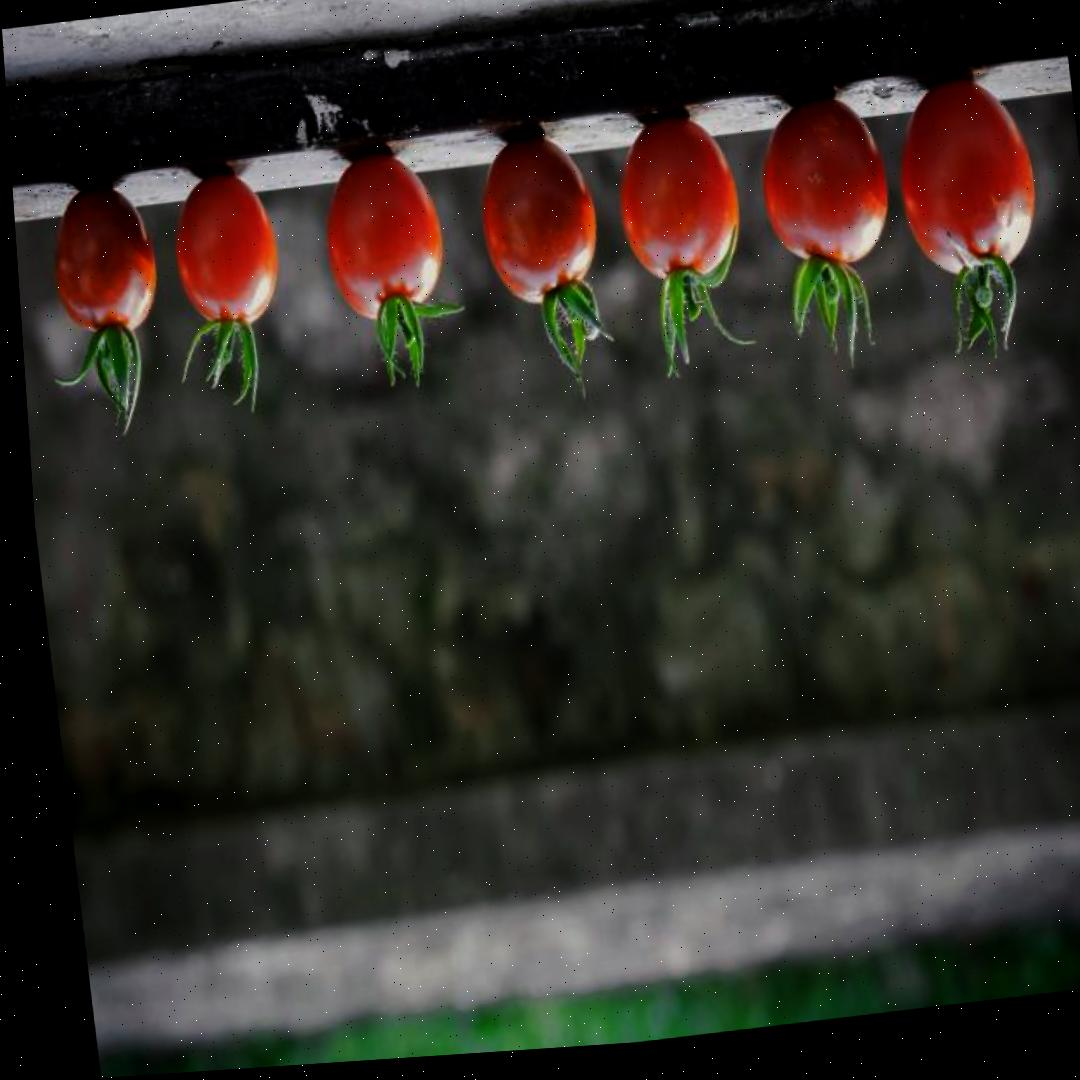matang: (753, 97, 908, 372), (471, 127, 621, 406), (317, 143, 475, 395), (607, 109, 757, 364), (44, 178, 175, 440), (888, 68, 1045, 285), (166, 169, 297, 420)
